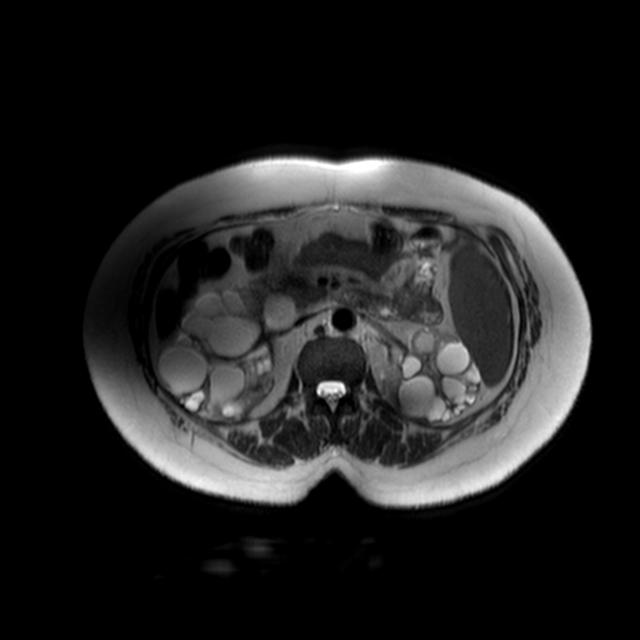sag: (159, 274, 315, 420)
sol: (393, 327, 483, 423)
